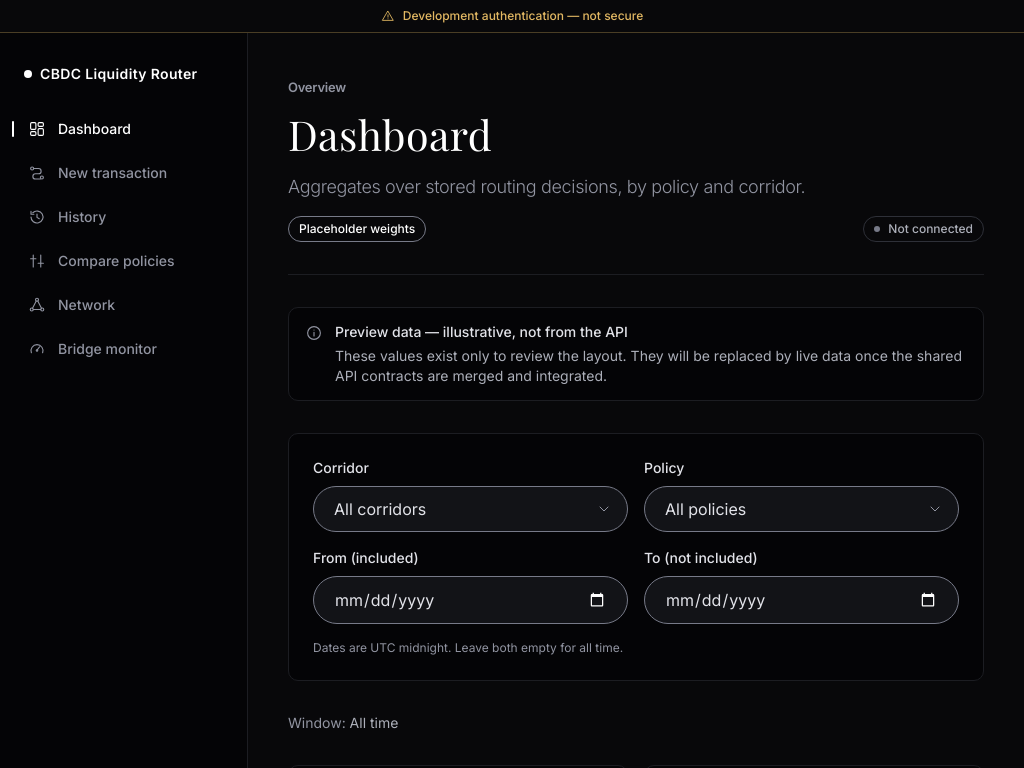
Test: Dashboard filters (URL-backed) › updates the window when a date is chosen
This screenshot has width=1024, height=768.
Type "2026-11-02" into the date field labelled "From (included)" at (470, 600), box [313,576,628,624]
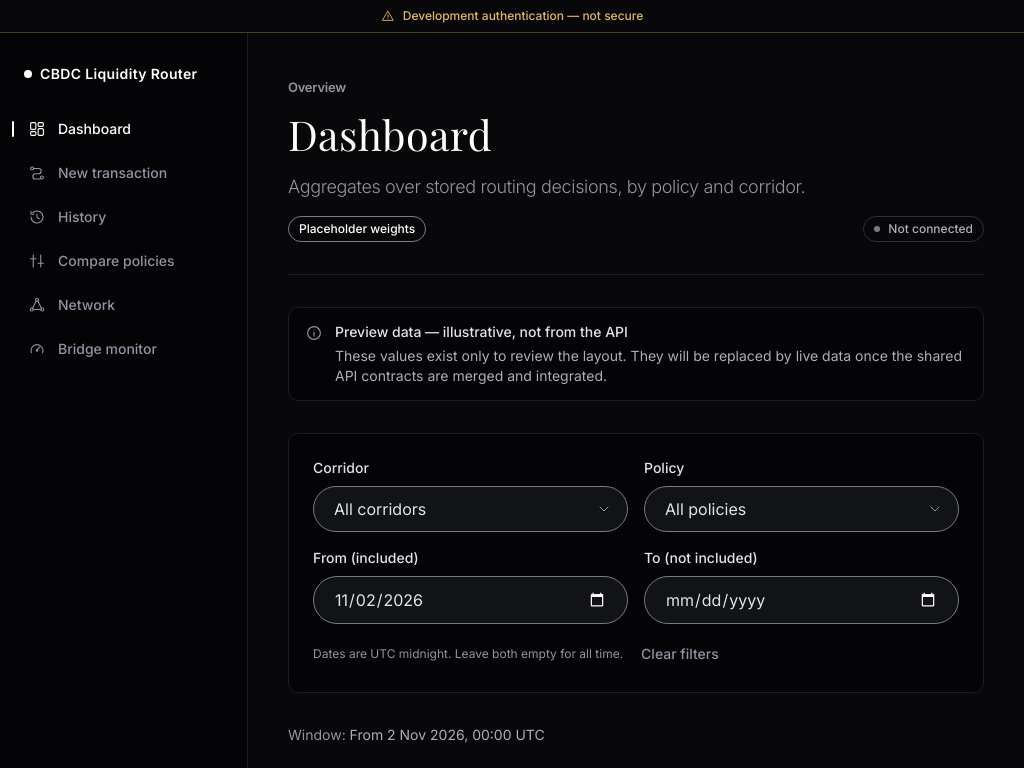
Result: the text with test id "window" reads "From 2 Nov 2026, 00:00 UTC" at [350,726,545,743]
